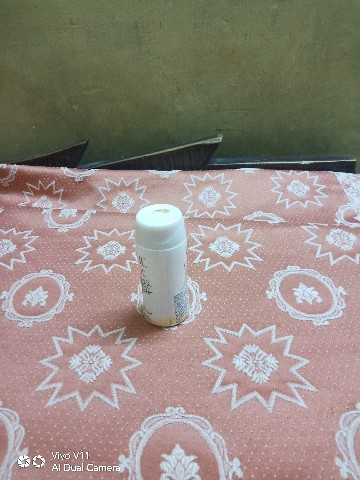gokulsantol small: (121, 190, 207, 342)
